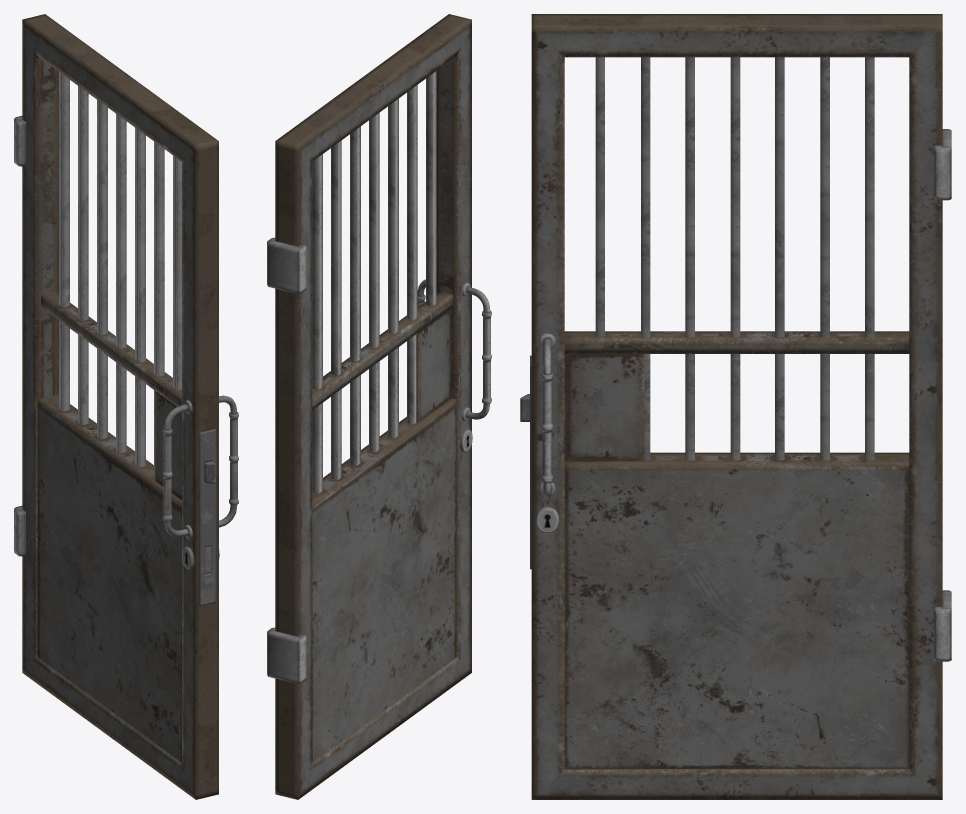
File: SM_JailDoor01_1_LOD0.glb
The picture shows the model from 3 angles, left to right: view 1: azimuth 30°, elevation 25°; view 2: azimuth 150°, elevation 25°; view 3: azimuth 270°, elevation 25°; orthographic projection. The views are drawn at different scales.
Parts seen in each view (by area): view 1: SM_JailDoor01_1_LOD0; view 2: SM_JailDoor01_1_LOD0; view 3: SM_JailDoor01_1_LOD0.
Part boxes in pixels (bbox=[...]): SM_JailDoor01_1_LOD0: bbox=[14, 14, 238, 799]; SM_JailDoor01_1_LOD0: bbox=[267, 14, 491, 799]; SM_JailDoor01_1_LOD0: bbox=[520, 14, 951, 799].
Bounding box in the file's own units: 0.2436 × 2.02 × 1.02.
Materials: 1 (1 with a texture image).
